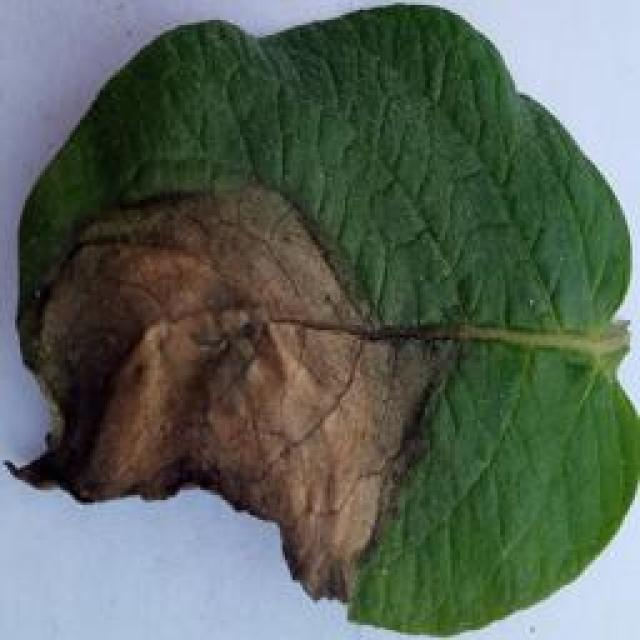Potato_Late_Blight: (8, 6, 628, 634)
